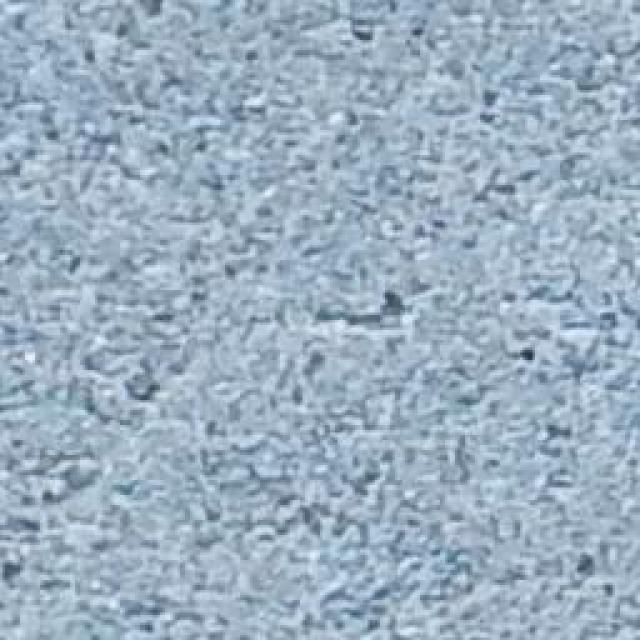concrete-crack: (131, 287, 640, 429)
